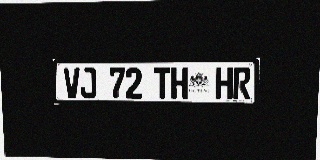2: (126, 67, 142, 99)
7: (109, 68, 125, 99)
H: (215, 67, 233, 99), (171, 67, 188, 99)
J: (80, 68, 96, 98)
R: (233, 67, 251, 99)
T: (154, 67, 170, 99)
V: (63, 68, 80, 98)
